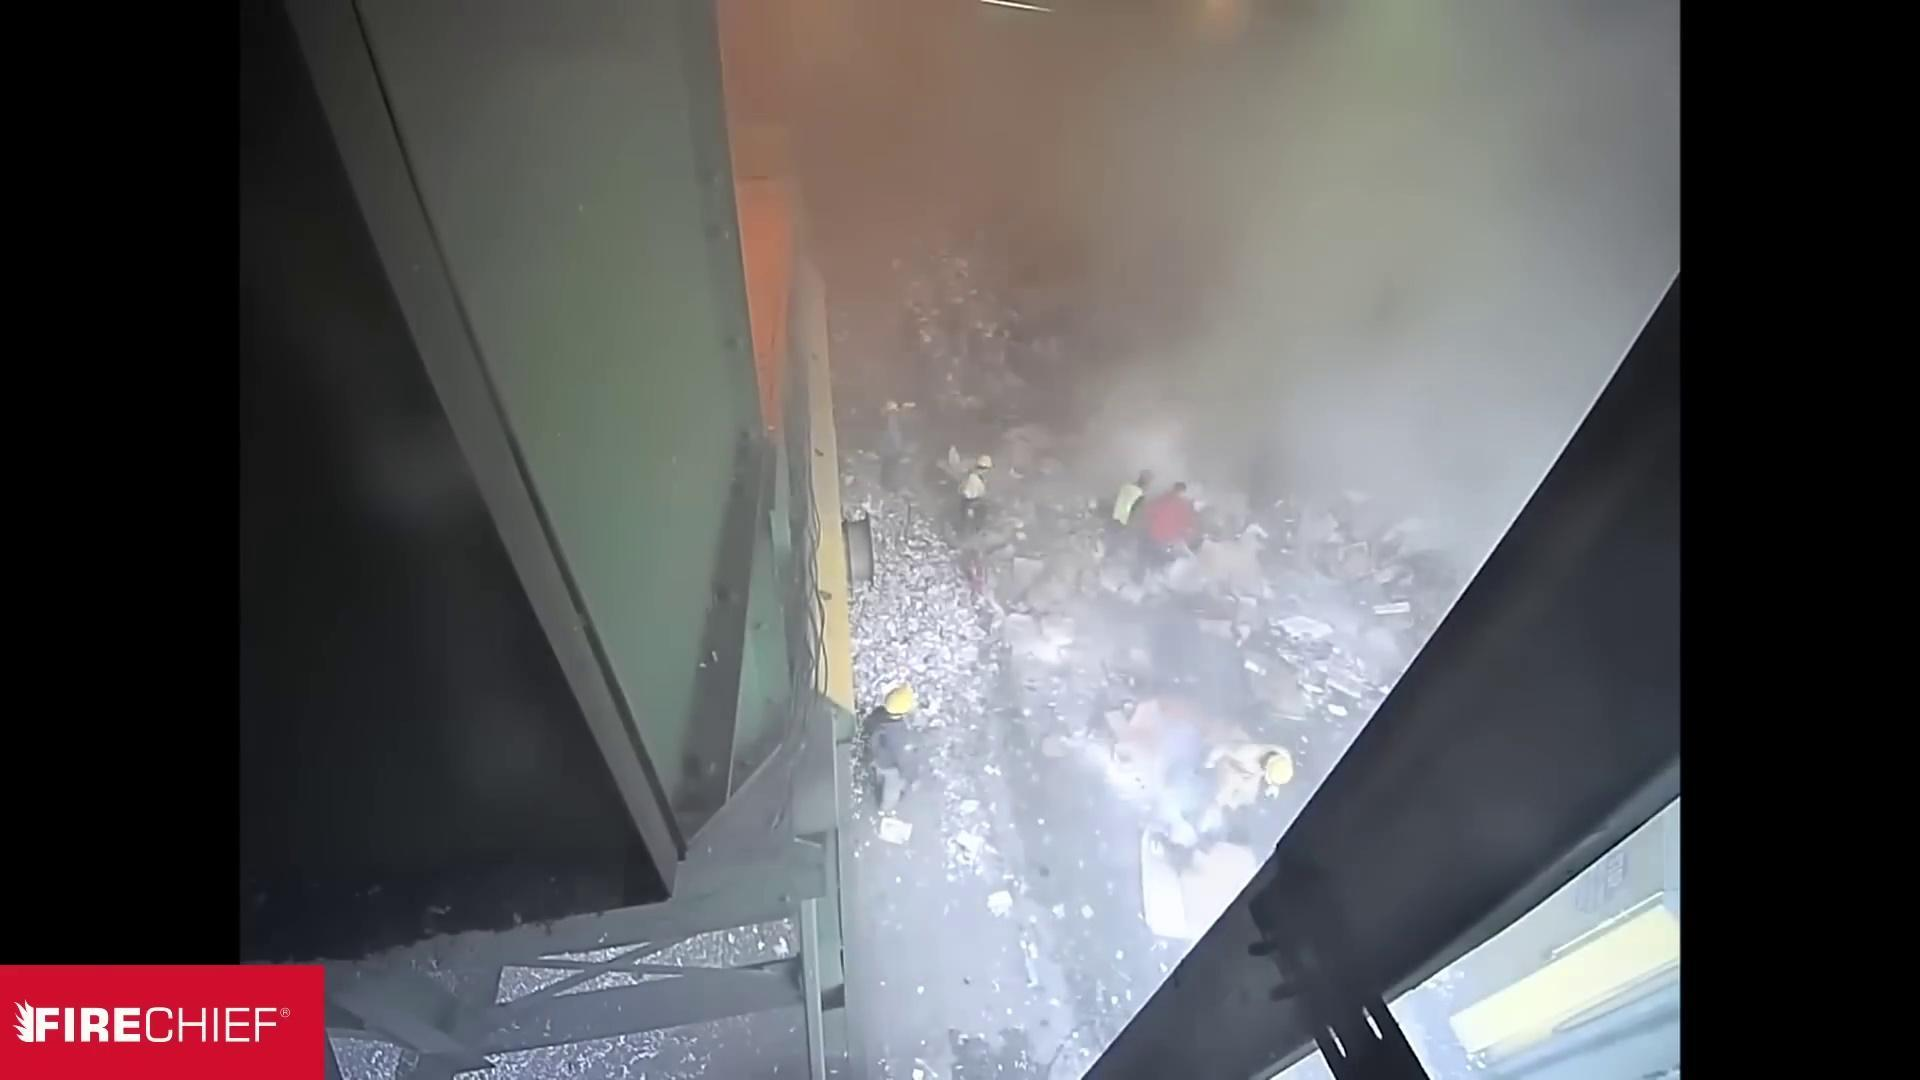smoke: (831, 108, 1422, 622)
